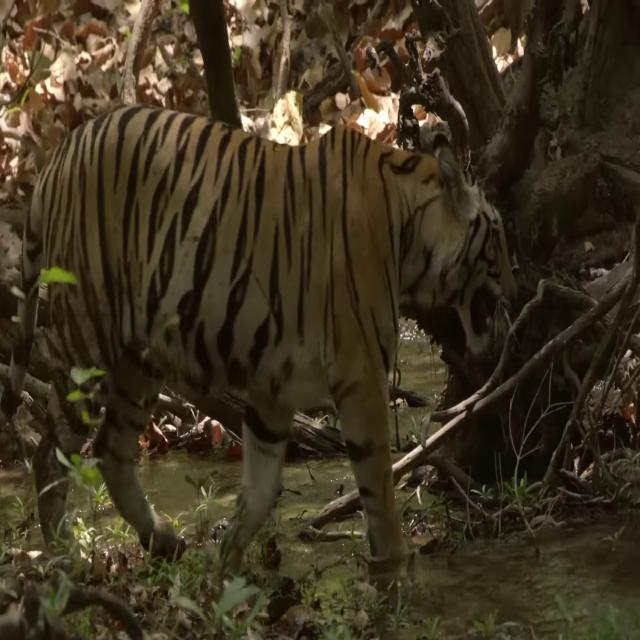tiger: (0, 117, 518, 566)
